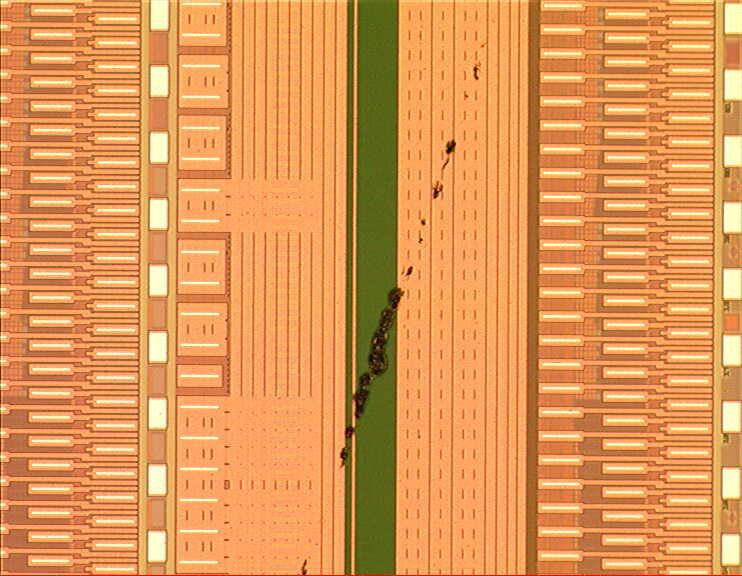SCRATCH: (291, 36, 494, 576)
